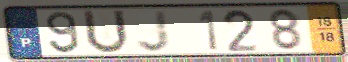1: (197, 9, 221, 52)
2: (221, 8, 260, 53)
8: (267, 8, 306, 52)
9: (44, 11, 81, 55)
J: (135, 9, 173, 54)
U: (80, 8, 132, 56)
